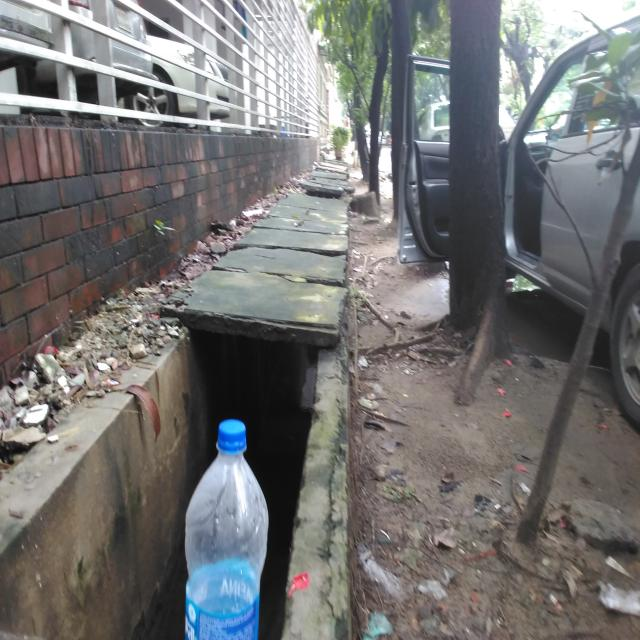artificial_container: (181, 417, 271, 640)
drain_inlet: (2, 314, 321, 640)
